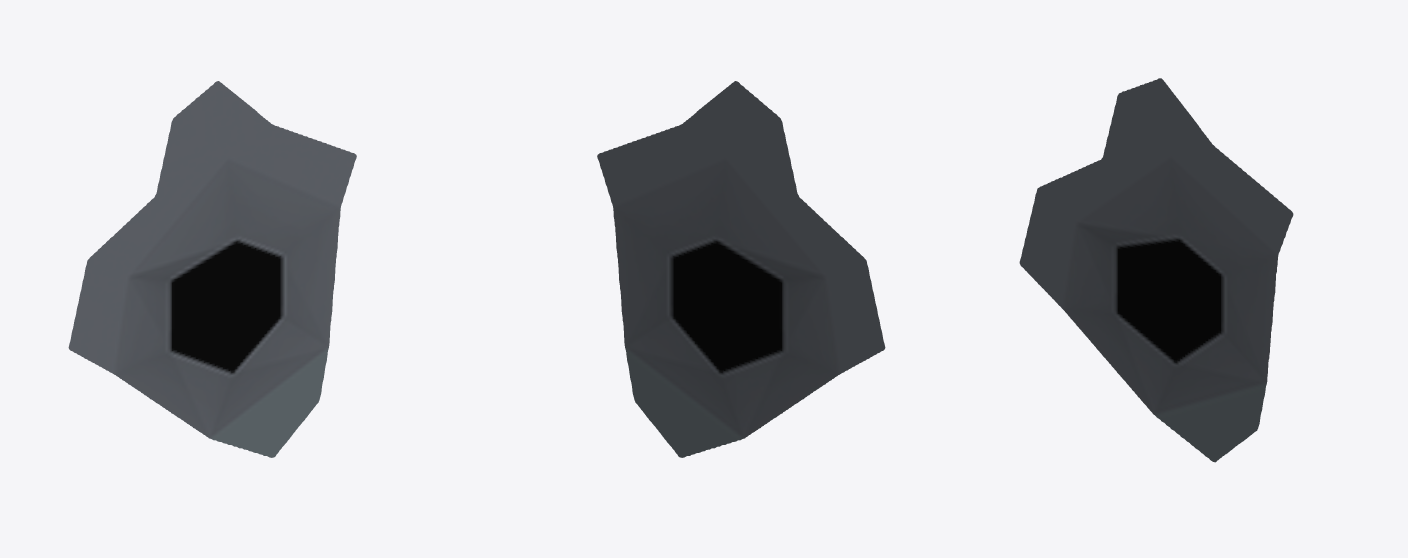
File: SM_Prop_Decal_Metal_02.fbx
3 renders of one model, left to right at view 1: azimuth 30°, elevation 25°; view 2: azimuth 150°, elevation 25°; view 3: azimuth 330°, elevation 25°, orthographic. The views are drawn at different scales.
Visible parts, largest first — view 1: SM_Prop_Decal_Metal_02; view 2: SM_Prop_Decal_Metal_02; view 3: SM_Prop_Decal_Metal_02.
Part boxes in pixels (x1,y1,x2,y2): SM_Prop_Decal_Metal_02: (68,81,356,457); SM_Prop_Decal_Metal_02: (597,81,885,457); SM_Prop_Decal_Metal_02: (1019,78,1293,462).
Size of the model in its own units: 16.9 by 16.16 by 0.
